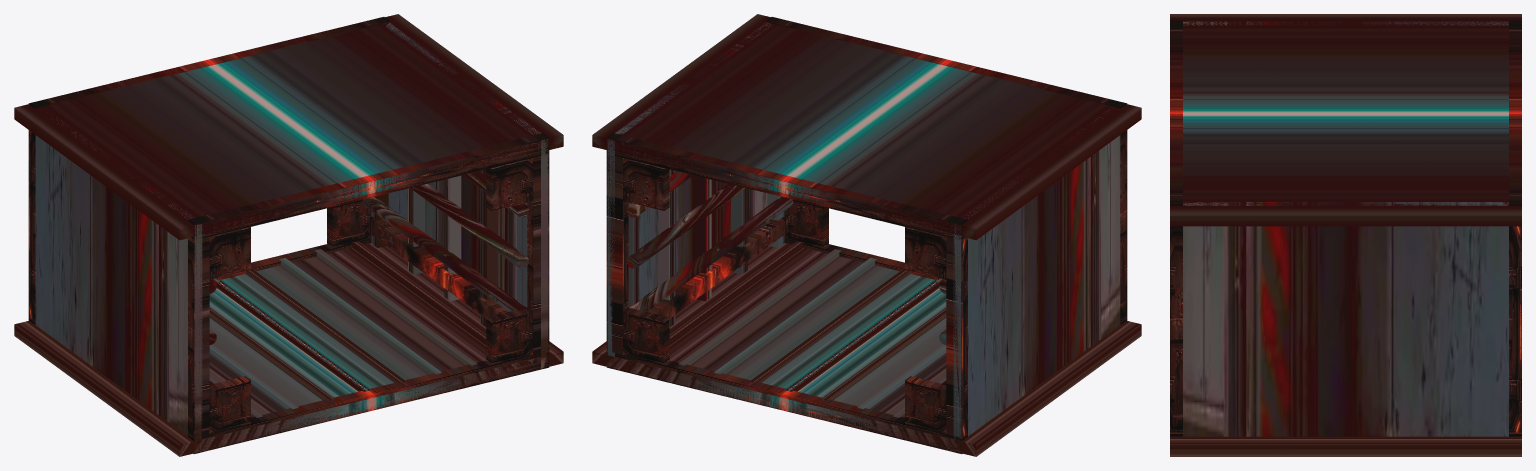
Rendered from hangar_koridor_kara.glb.
3 views of the same model, side by side, from view 1: azimuth 30°, elevation 25°; view 2: azimuth 150°, elevation 25°; view 3: azimuth 270°, elevation 25° (orthographic). The views are drawn at different scales.
Visible parts, largest first — view 1: LOD0_koridor; view 2: LOD0_koridor; view 3: LOD0_koridor.
Boxes of the visible parts, bbox=[...] form: LOD0_koridor: bbox=[14, 14, 563, 456]; LOD0_koridor: bbox=[592, 14, 1141, 456]; LOD0_koridor: bbox=[1170, 14, 1521, 456].
Size of the model in its own units: 10.2 by 5.84 by 7.6.
Materials: 1 (1 with a texture image).
